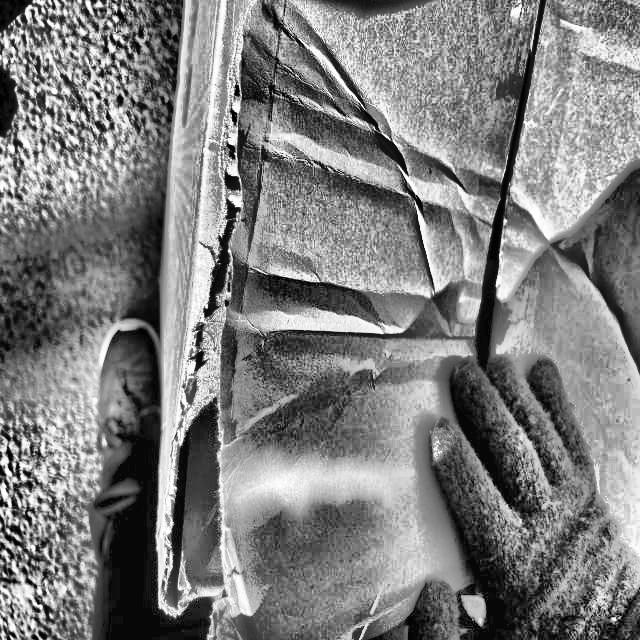box: (142, 0, 639, 639)
hole: (168, 256, 234, 609)
